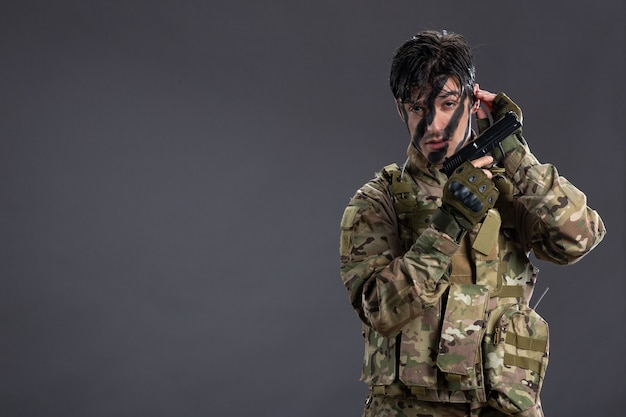gun: (439, 109, 523, 183)
